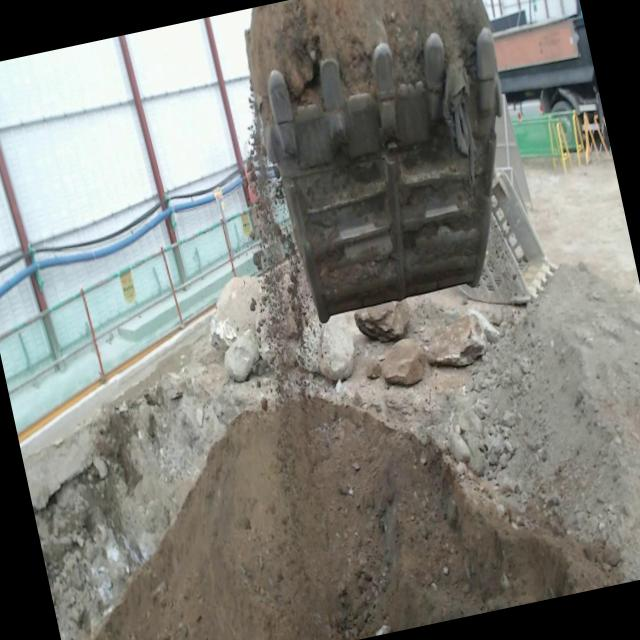cement: (20, 308, 213, 509)
red-sand: (247, 0, 489, 126)
rocks: (332, 344, 516, 475)
sand: (93, 263, 640, 640)
stone: (209, 275, 264, 351), (427, 314, 486, 367), (366, 339, 428, 385), (316, 315, 354, 380), (354, 301, 410, 340), (224, 336, 258, 381)
